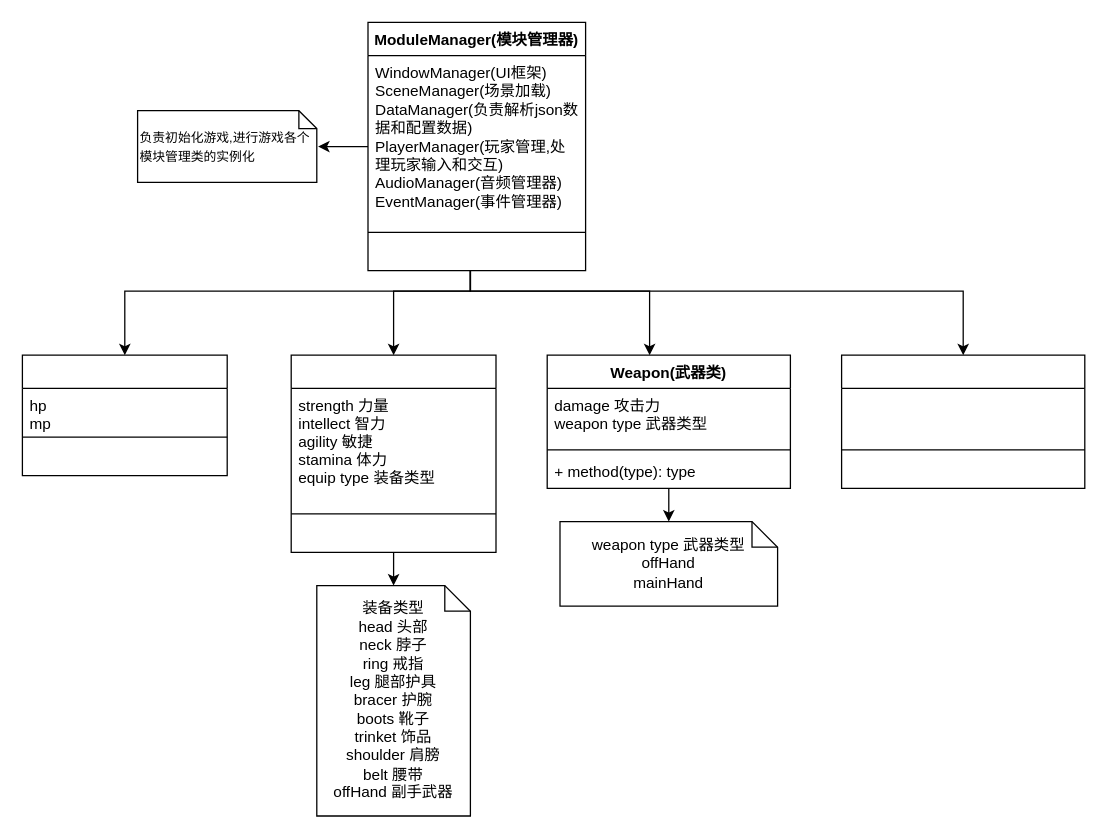
Some shapes in this 1107 by 838 pixel diagram are drawn without their labels. Each missing label, with the box of its shape:
Consumable(消耗品): (21, 354, 227, 476)
Equipment(装备类): (290, 354, 496, 552)
Material(材料类): (840, 354, 1085, 488)
